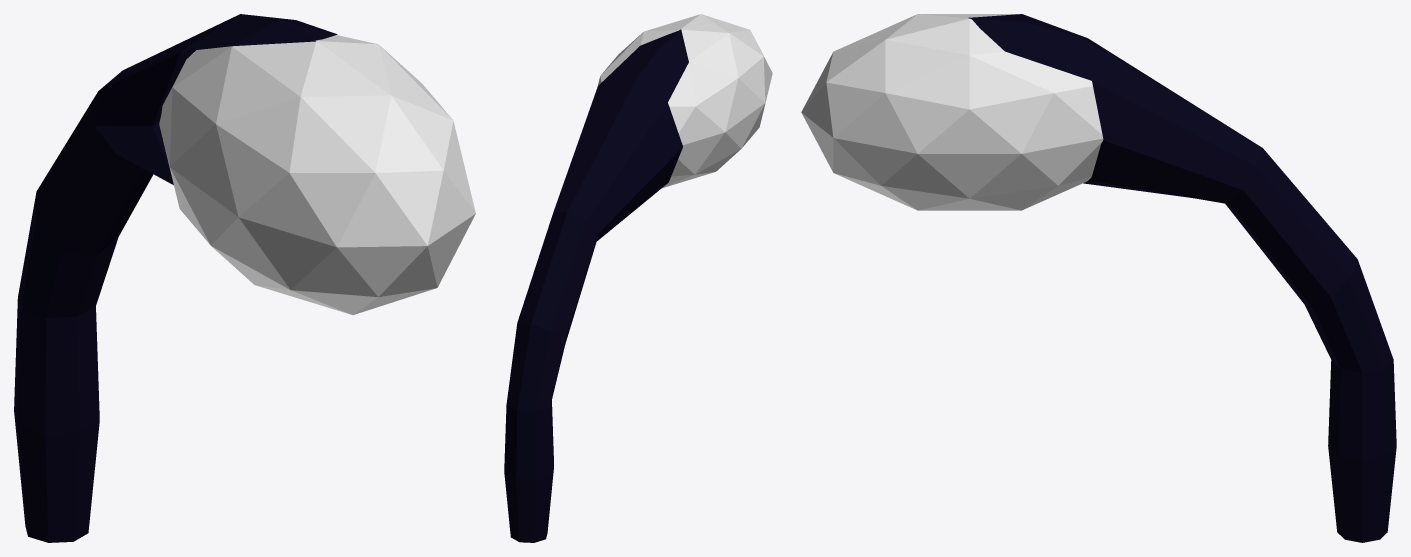
Rendered from AnglerLight.fbx.
3 renders of one model, left to right at view 1: azimuth 30°, elevation 25°; view 2: azimuth 150°, elevation 25°; view 3: azimuth 270°, elevation 25°, orthographic. The views are drawn at different scales.
Visible parts, largest first — view 1: Light, Angler Thing; view 2: Angler Thing, Light; view 3: Angler Thing, Light.
Boxes of the visible parts, <box> form: Light: <box>159,35,475,314</box>; Angler Thing: <box>14,14,337,542</box>; Angler Thing: <box>504,29,688,542</box>; Light: <box>598,14,772,188</box>; Angler Thing: <box>968,14,1396,542</box>; Light: <box>801,14,1103,210</box>.
Bounding box in the file's own units: 189 × 545 × 572.
